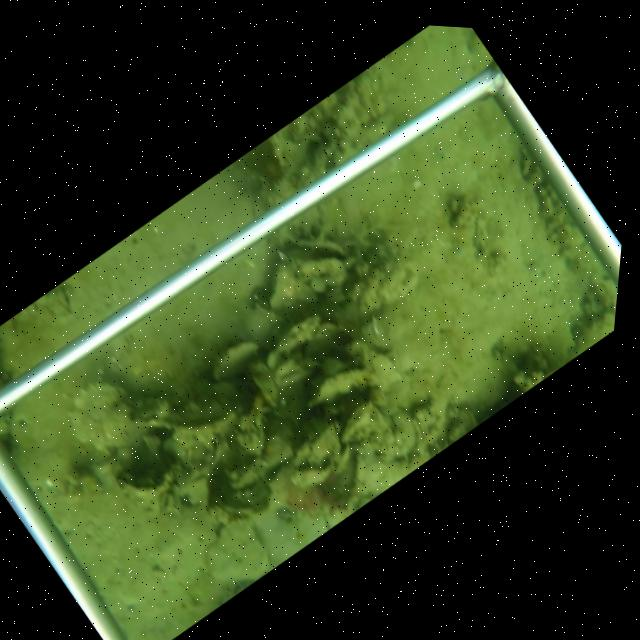Oyster-Closed: (265, 261, 313, 313), (212, 335, 262, 381)
Oyster-Indeterminate: (66, 378, 138, 450), (201, 513, 271, 585)
Oyster-Open: (281, 234, 346, 265)
